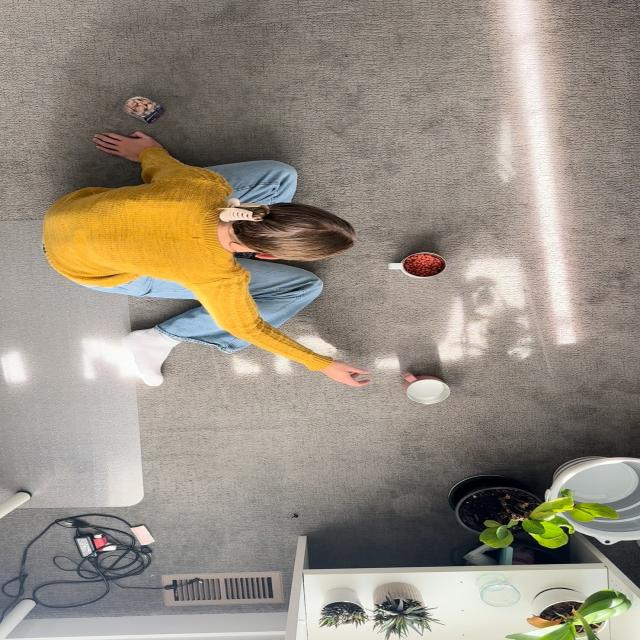IBC: (402, 373, 450, 404), (389, 252, 445, 278)
